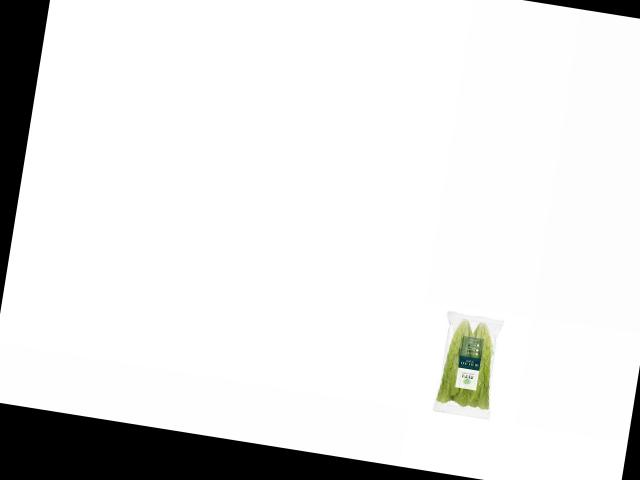lettuce: (428, 314, 502, 413)
